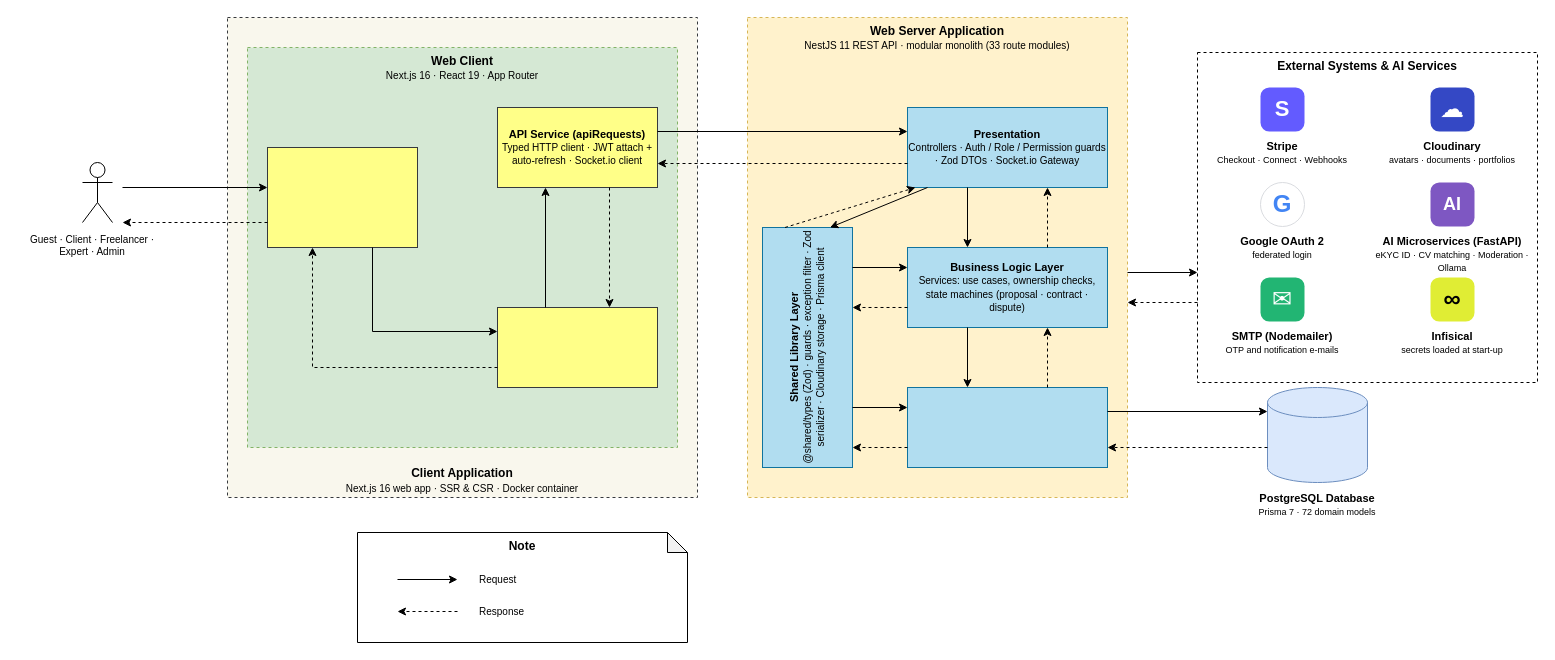
This 1555x660 diagram has some shape labels left out. The centre of each missing label's shape, as x and y in pixels:
"Data Access Layer Repositories + Prisma 7 (pg adapter, $transaction)" belongs at pixel 1007 427.
"Hook / React Query TanStack Query, react-hook-form + Zod resolvers" belongs at pixel 577 347.
"Page / Screen Server + Client Components, next-intl, TailwindCSS 4 / shadcn/ui" belongs at pixel 342 197.
